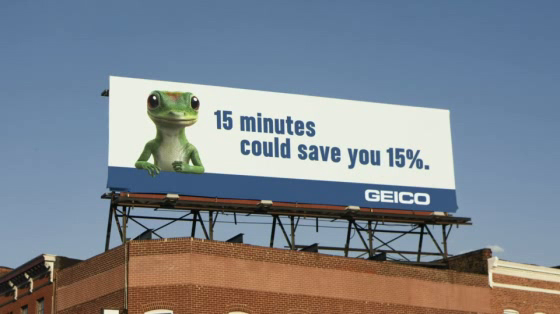Geico: (364, 188, 432, 207)
